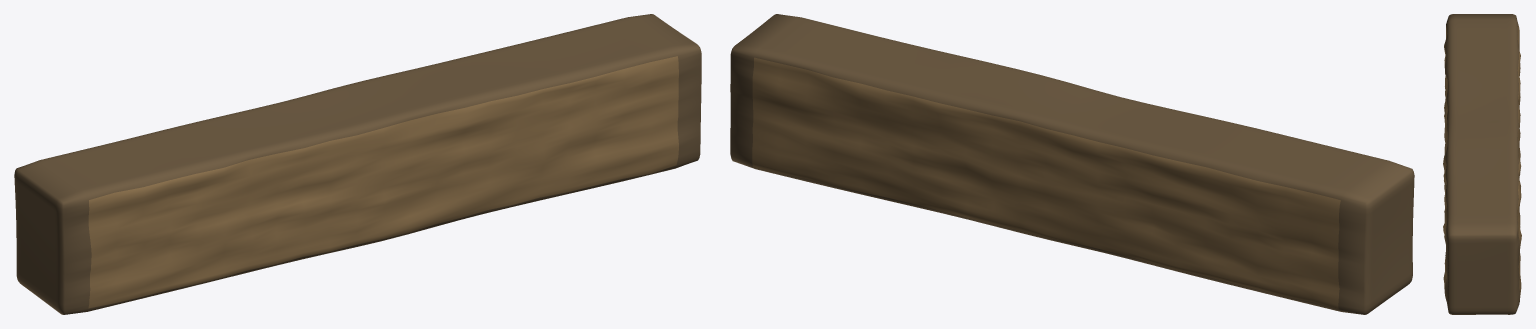
File: resin-slice-v02.glb
The picture shows the model from 3 angles, left to right: view 1: azimuth 30°, elevation 25°; view 2: azimuth 150°, elevation 25°; view 3: azimuth 270°, elevation 25°; orthographic projection. The views are drawn at different scales.
Visible parts, largest first — view 1: Barrette 100 / coupe transversale; view 2: Barrette 100 / coupe transversale; view 3: Barrette 100 / coupe transversale.
Part boxes in pixels (<box>): Barrette 100 / coupe transversale: <box>14,14,701,314</box>; Barrette 100 / coupe transversale: <box>730,14,1414,314</box>; Barrette 100 / coupe transversale: <box>1443,14,1521,314</box>.
Size of the model in its own units: 0.1003 by 0.0181 by 0.0151.
